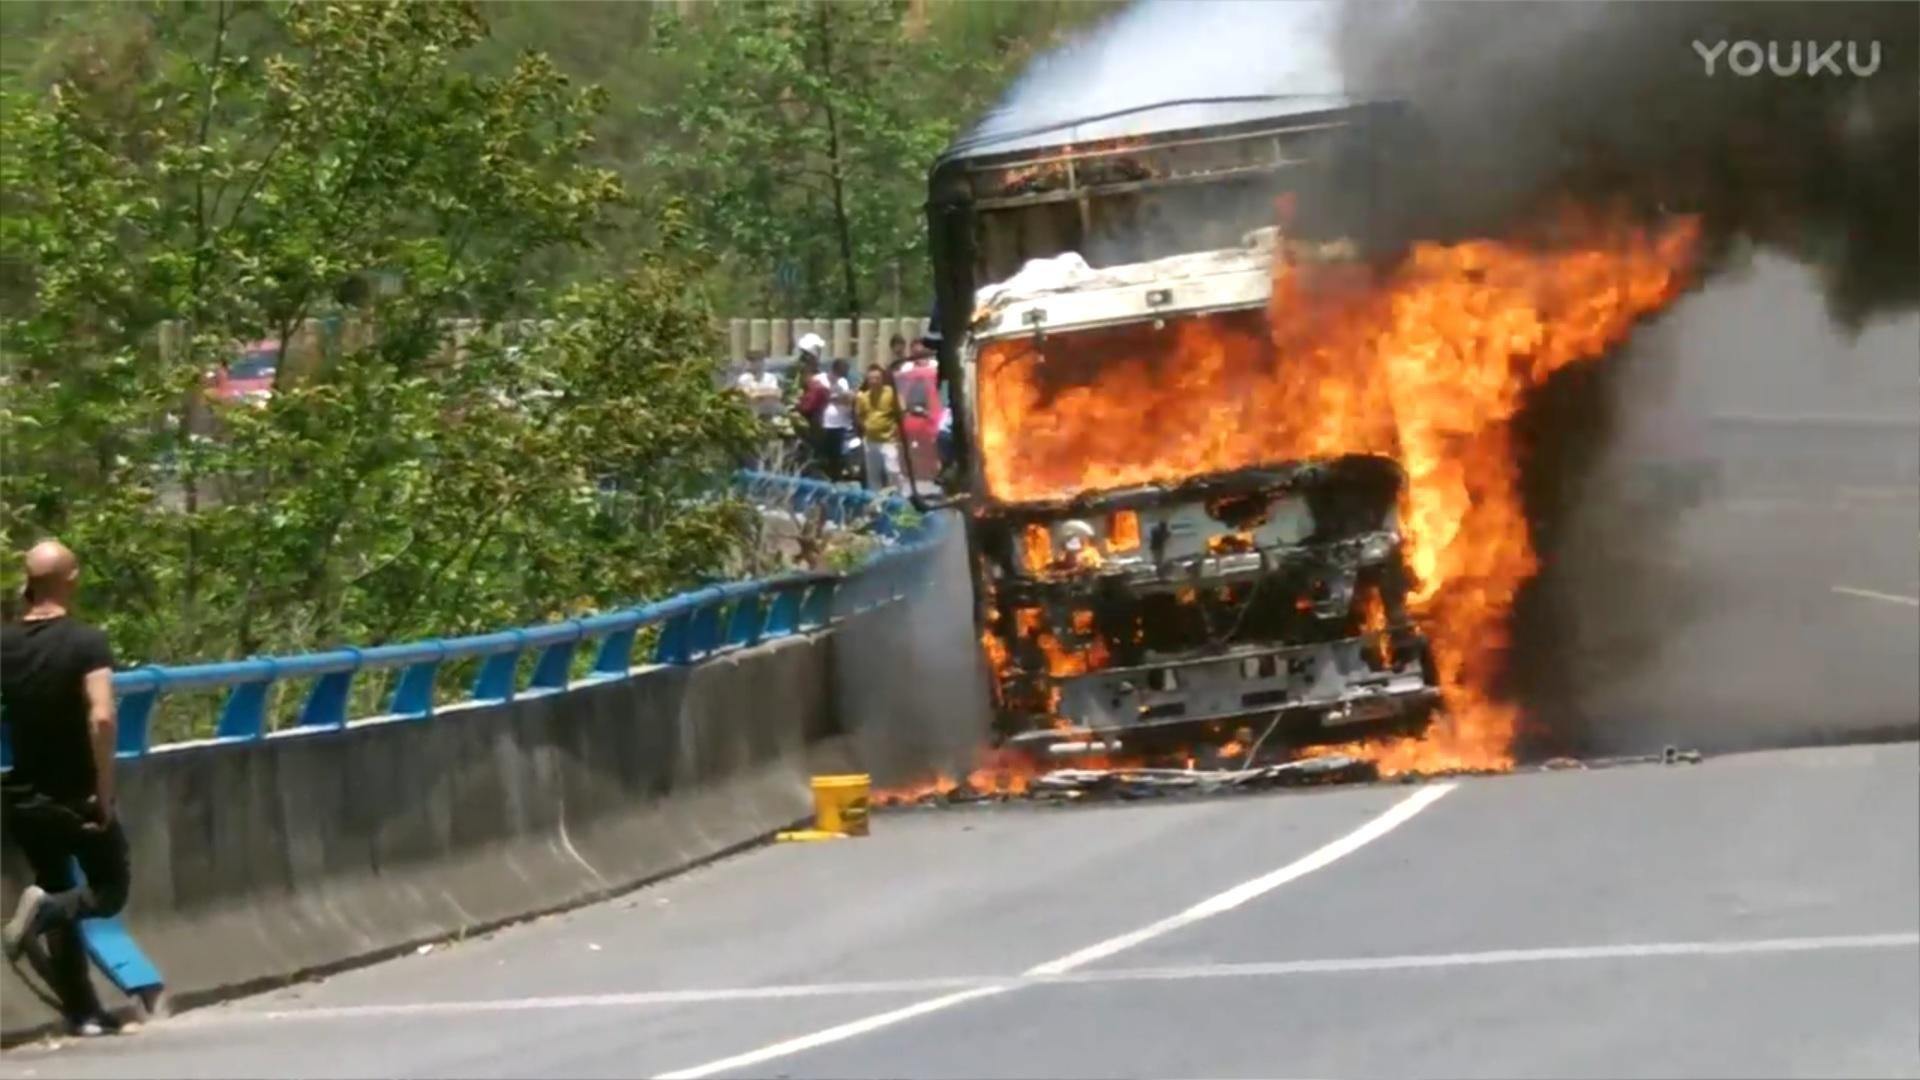fire: (920, 210, 1710, 800)
